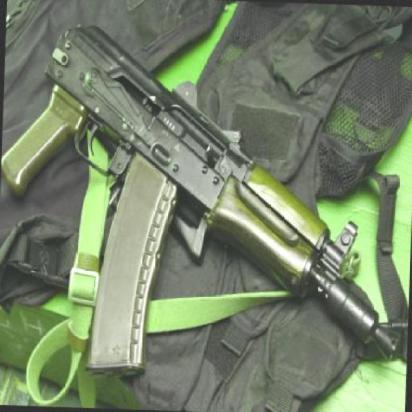Gun: (4, 7, 410, 382)
